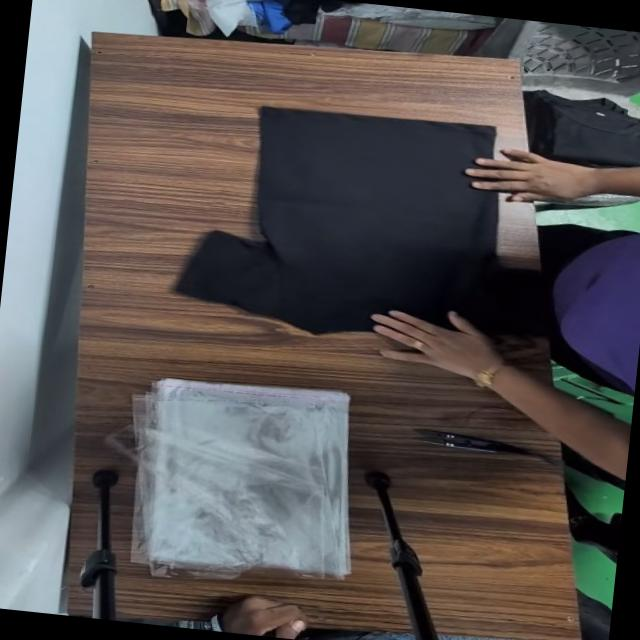new-garment: (176, 107, 547, 336)
